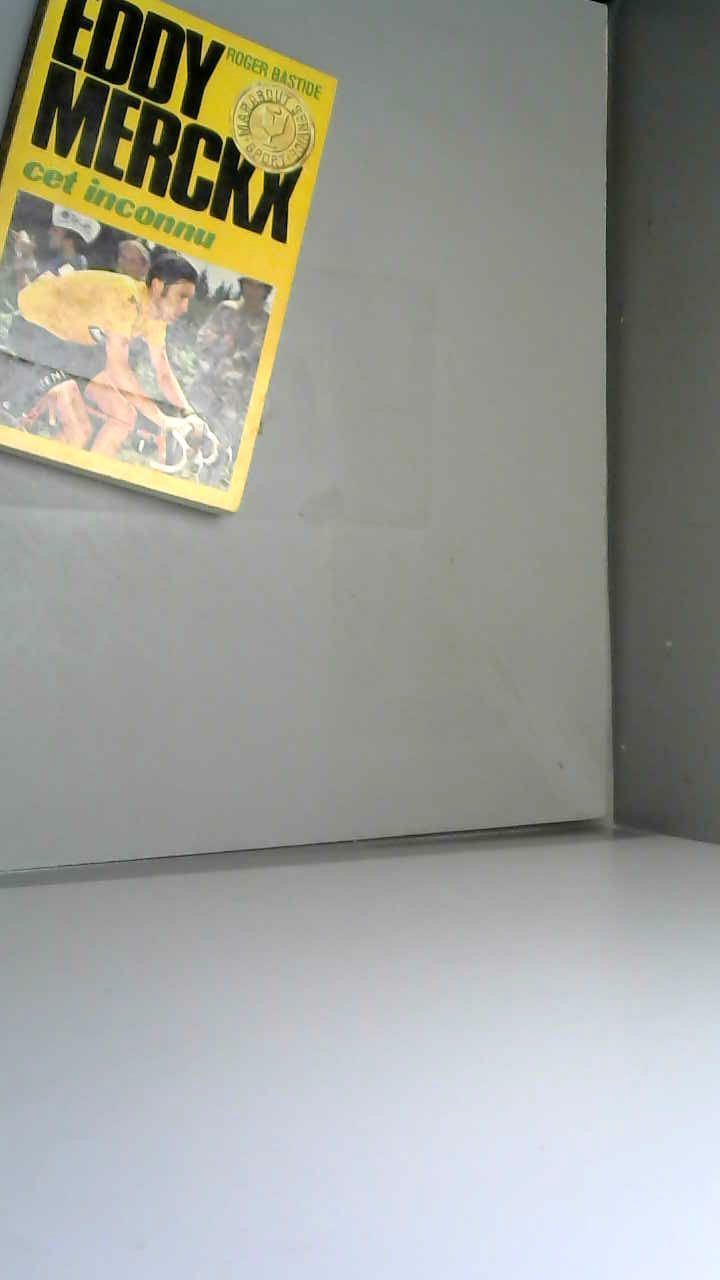book: (0, 0, 374, 572)
